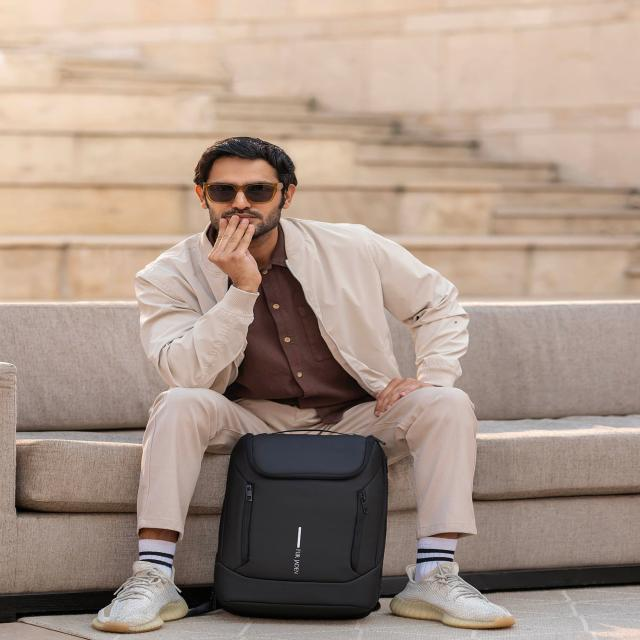backpack: (212, 428, 390, 621)
